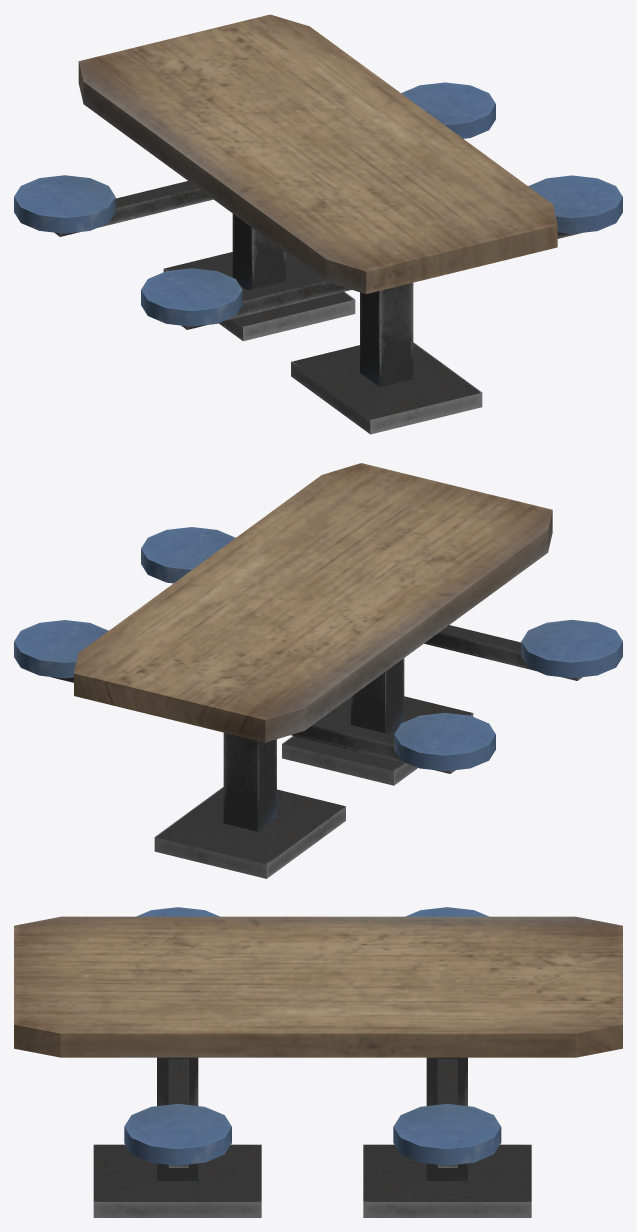
Rendered from Table_2.fbx.
3 views of the same model, one above another, from view 1: azimuth 30°, elevation 25°; view 2: azimuth 150°, elevation 25°; view 3: azimuth 270°, elevation 25° (orthographic). The views are drawn at different scales.
Visible parts, largest first — view 1: Table_2; view 2: Table_2; view 3: Table_2.
Part boxes in pixels (x1=…): Table_2: x1=14, y1=14, x2=622, y2=434; Table_2: x1=14, y1=463, x2=622, y2=878; Table_2: x1=14, y1=907, x2=622, y2=1217.
Bounding box in the file's own units: 3.97 × 1.63 × 4.21.
